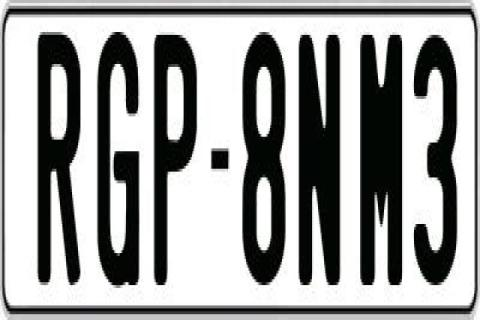0: (412, 35, 462, 285), (242, 23, 288, 291)
G: (98, 29, 144, 294)
M: (356, 29, 398, 291)
N: (299, 26, 341, 291)
P: (154, 29, 198, 285)
R: (34, 24, 80, 288)
